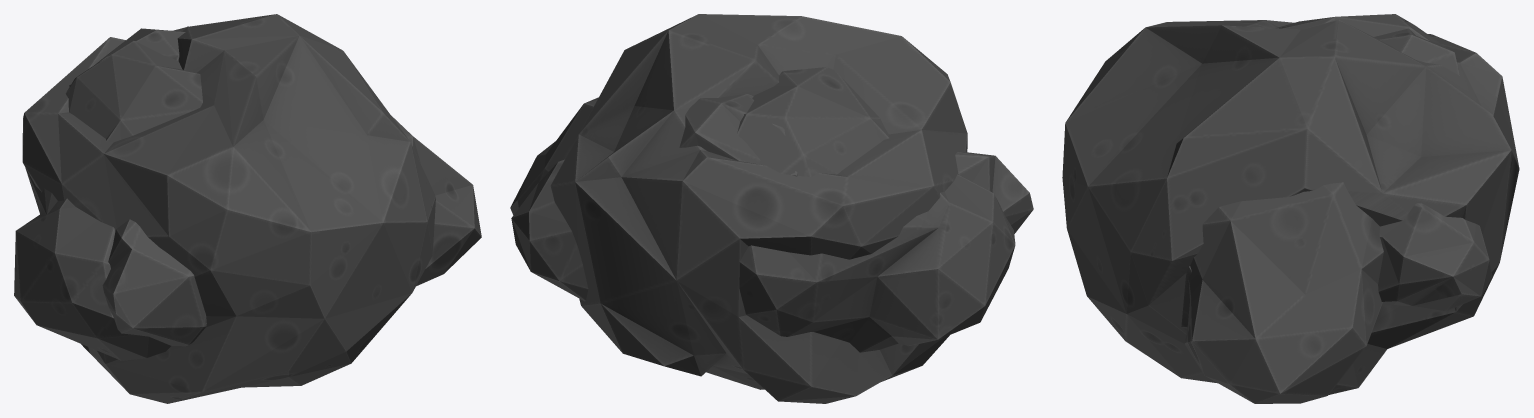
Rendered from asteroids.glb.
3 views of the same model, side by side, from view 1: azimuth 30°, elevation 25°; view 2: azimuth 150°, elevation 25°; view 3: azimuth 270°, elevation 25° (orthographic). The views are drawn at different scales.
Parts seen in each view (by area): view 1: bigasteroid, bigasteroid.001, bigasteroid.003, bigasteroid.002; view 2: bigasteroid, bigasteroid.001, bigasteroid.003, bigasteroid.002; view 3: bigasteroid, bigasteroid.001, bigasteroid.003, bigasteroid.002.
Boxes of the visible parts, bbox=[...] form: bigasteroid: bbox=[22, 14, 435, 403]; bigasteroid.001: bbox=[14, 41, 481, 360]; bigasteroid.003: bbox=[102, 219, 206, 346]; bigasteroid.002: bbox=[69, 28, 185, 86]; bigasteroid: bbox=[550, 14, 967, 403]; bigasteroid.001: bbox=[510, 67, 1015, 352]; bigasteroid.003: bbox=[511, 151, 1033, 301]; bigasteroid.002: bbox=[679, 93, 797, 176]; bigasteroid: bbox=[1062, 19, 1519, 394]; bigasteroid.001: bbox=[1184, 14, 1440, 403]; bigasteroid.003: bbox=[1378, 203, 1492, 311]; bigasteroid.002: bbox=[1181, 19, 1459, 330].
Size of the model in its own units: 8.08 by 5.54 by 6.56.
1 material, 1 textured.
